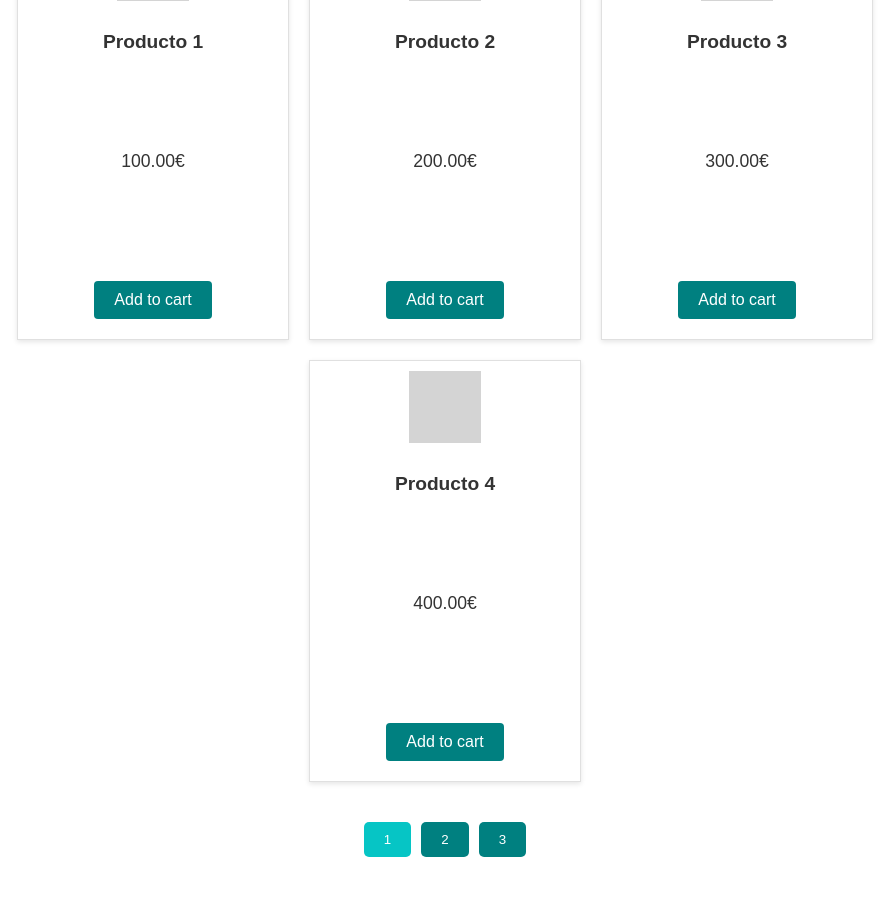
Test: CategoryProductsPage › debería cambiar de página al hacer clic en el botón de paginación
(page scrolled)
Check: the heading "Producto 1" is shown, box [103,31,203,52]
Note: Hacer clic en el botón para cambiar a la página 2
Click the button "2". click: (445, 840)
box: [421,822,469,857]
(page scrolled)
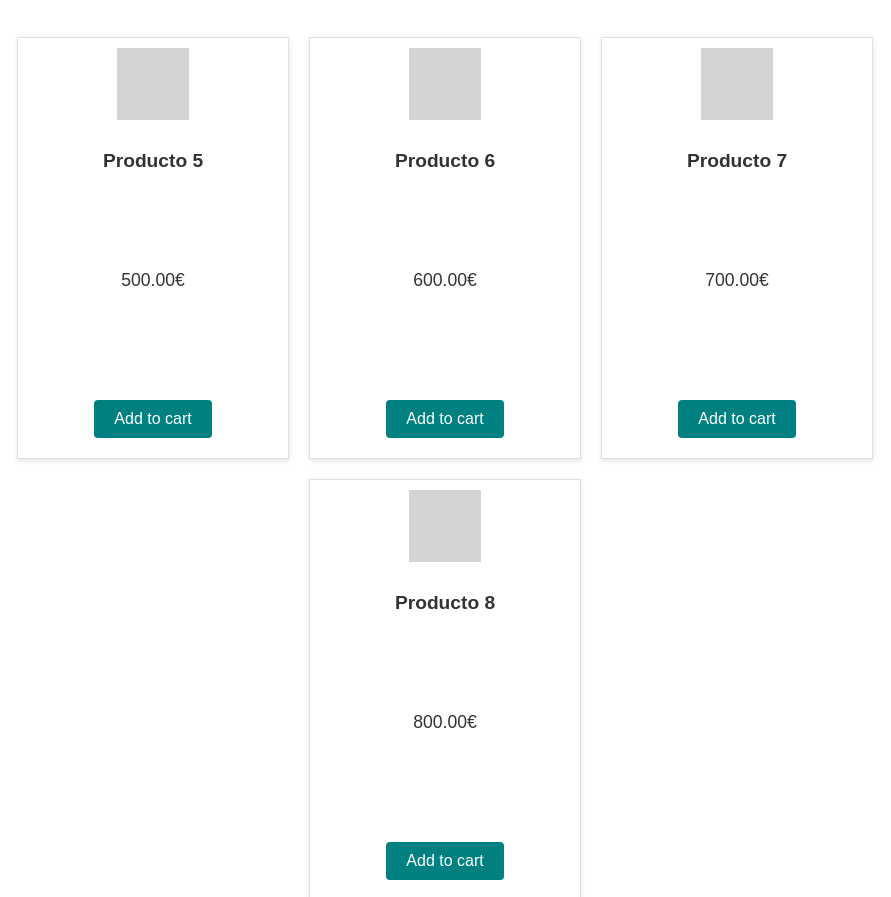
Check: the heading "Producto 5" is shown, box [103,150,203,171]
